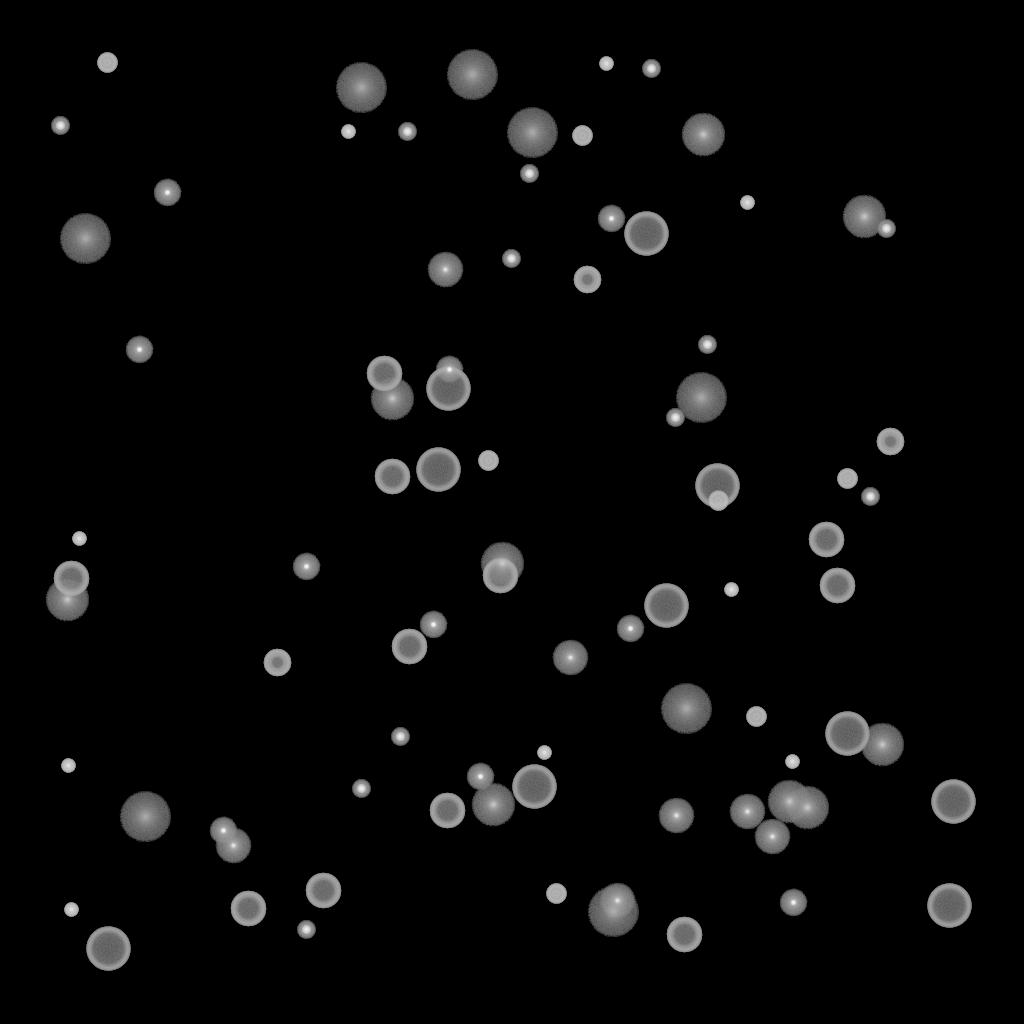depth:-10: (153, 179, 181, 207), (209, 817, 237, 845), (597, 205, 625, 233), (419, 611, 447, 639), (435, 356, 463, 384), (466, 763, 494, 791), (779, 889, 807, 917), (616, 615, 644, 643), (292, 553, 320, 581), (125, 336, 153, 364)
depth:-20: (297, 921, 315, 939), (861, 488, 879, 506), (698, 336, 716, 354), (391, 728, 409, 746), (398, 123, 416, 141), (666, 409, 684, 427), (520, 165, 538, 183), (352, 780, 370, 798), (642, 60, 660, 78), (502, 250, 520, 268), (877, 220, 895, 238), (51, 117, 69, 135)
depth:-30: (72, 532, 86, 546), (61, 759, 75, 773), (599, 57, 613, 71), (537, 746, 551, 760), (740, 196, 754, 210), (785, 755, 799, 769), (341, 125, 355, 139), (64, 903, 78, 917), (724, 583, 738, 597)
depth:-40: (97, 53, 117, 73), (546, 884, 566, 904), (746, 707, 766, 727), (478, 451, 498, 471), (572, 126, 592, 146), (837, 469, 857, 489), (708, 491, 728, 511)
depth:-50: (876, 428, 904, 456), (263, 649, 291, 677), (573, 266, 601, 294)
depth:-60: (366, 356, 402, 392), (429, 793, 465, 829), (808, 522, 844, 558), (230, 891, 266, 927), (374, 459, 410, 495), (666, 917, 702, 953), (53, 561, 89, 597), (819, 568, 855, 604), (482, 558, 518, 594), (305, 873, 341, 909), (391, 629, 427, 665)
depth:-70: (927, 884, 971, 928), (426, 367, 470, 411), (644, 584, 688, 628), (416, 448, 460, 492), (512, 765, 556, 809), (695, 464, 739, 508), (825, 712, 869, 756), (624, 212, 668, 256), (86, 927, 130, 971), (931, 780, 975, 824)
depth:0: (215, 828, 251, 864), (599, 883, 635, 919), (658, 798, 694, 834), (754, 819, 790, 855), (552, 640, 588, 676), (729, 794, 765, 830), (427, 252, 463, 288)
depth:10: (480, 542, 524, 586), (370, 377, 414, 421), (471, 783, 515, 827), (767, 780, 811, 824), (860, 723, 904, 767), (842, 195, 886, 239), (681, 113, 725, 157), (785, 786, 829, 830), (45, 578, 89, 622)
depth:20: (506, 108, 558, 158), (660, 684, 712, 734), (59, 214, 111, 264), (119, 792, 171, 842), (675, 373, 727, 423), (587, 887, 639, 937), (335, 63, 387, 113), (446, 50, 498, 100)
